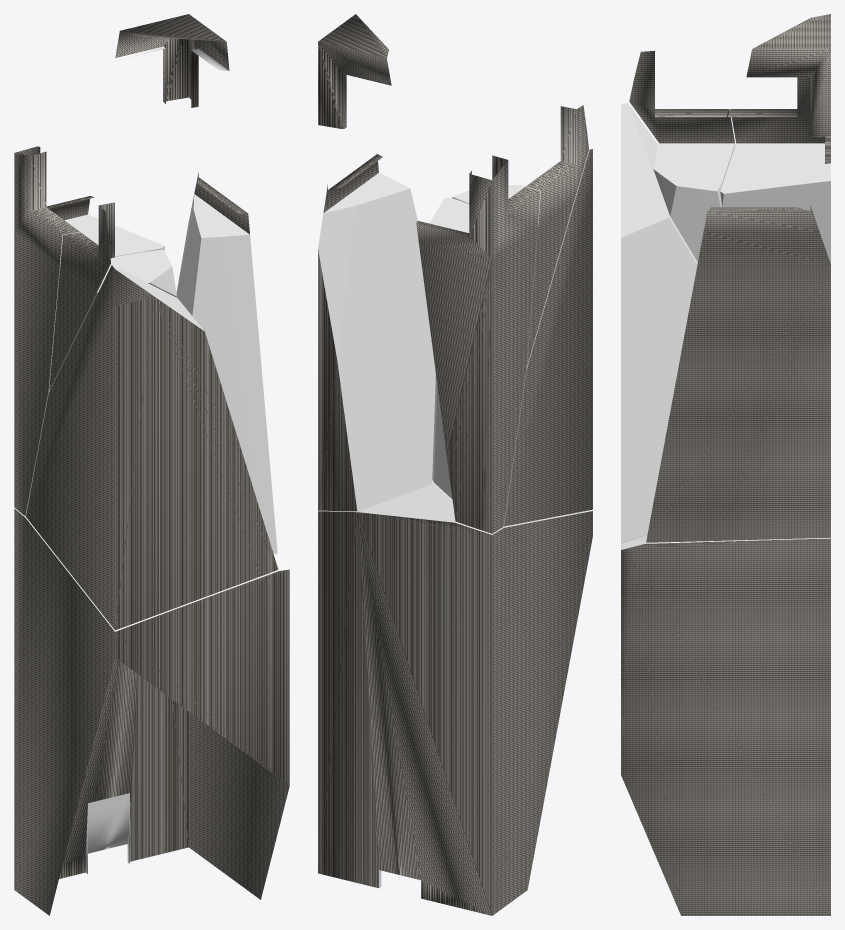
File: L2Tower.fbx
3 renders of one model, left to right at view 1: azimuth 30°, elevation 25°; view 2: azimuth 150°, elevation 25°; view 3: azimuth 270°, elevation 25°, orthographic. The views are drawn at different scales.
Parts seen in each view (by area): view 1: Tower_cell.002, Tower_cell.018, Tower_cell, Tower_cell.007, Tower_cell.014, Tower_cell.015; view 2: Tower_cell.002, Tower_cell, Tower_cell.007, Tower_cell.018, Tower_cell.014, Tower_cell.015; view 3: Tower_cell.002, Tower_cell, Tower_cell.018, Tower_cell.007, Tower_cell.014, Tower_cell.015.
Part boxes in pixels (x1=…): Tower_cell.002: x1=14, y1=508, x2=289, y2=915; Tower_cell.018: x1=26, y1=265, x2=278, y2=630; Tower_cell: x1=176, y1=172, x2=277, y2=553; Tower_cell.007: x1=14, y1=146, x2=164, y2=516; Tower_cell.014: x1=49, y1=202, x2=176, y2=390; Tower_cell.015: x1=115, y1=14, x2=229, y2=107; Tower_cell.002: x1=318, y1=480, x2=592, y2=915; Tower_cell: x1=318, y1=154, x2=435, y2=511; Tower_cell.007: x1=416, y1=155, x2=540, y2=533; Tower_cell.018: x1=432, y1=149, x2=592, y2=526; Tower_cell.014: x1=452, y1=105, x2=588, y2=365; Tower_cell.015: x1=318, y1=14, x2=391, y2=128; Tower_cell.002: x1=621, y1=534, x2=830, y2=915; Tower_cell: x1=646, y1=205, x2=830, y2=542; Tower_cell.018: x1=621, y1=103, x2=697, y2=541; Tower_cell.007: x1=720, y1=77, x2=830, y2=263; Tower_cell.014: x1=629, y1=51, x2=735, y2=262; Tower_cell.015: x1=746, y1=14, x2=830, y2=137.
Bounding box in the file's own units: 30.7 × 140 × 30.7.
